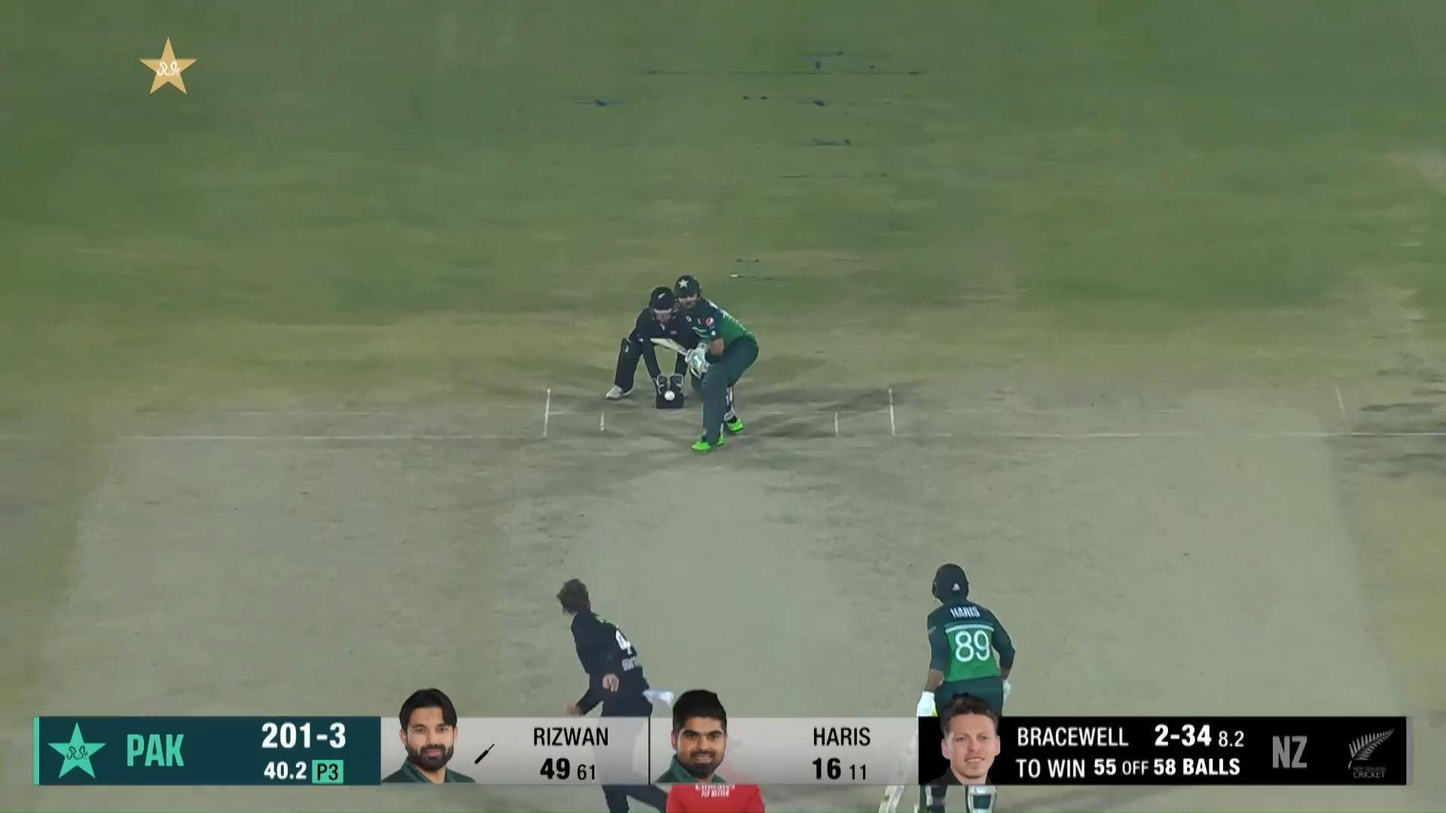BM 1: (650, 274, 759, 452)
BO: (557, 575, 673, 813)
